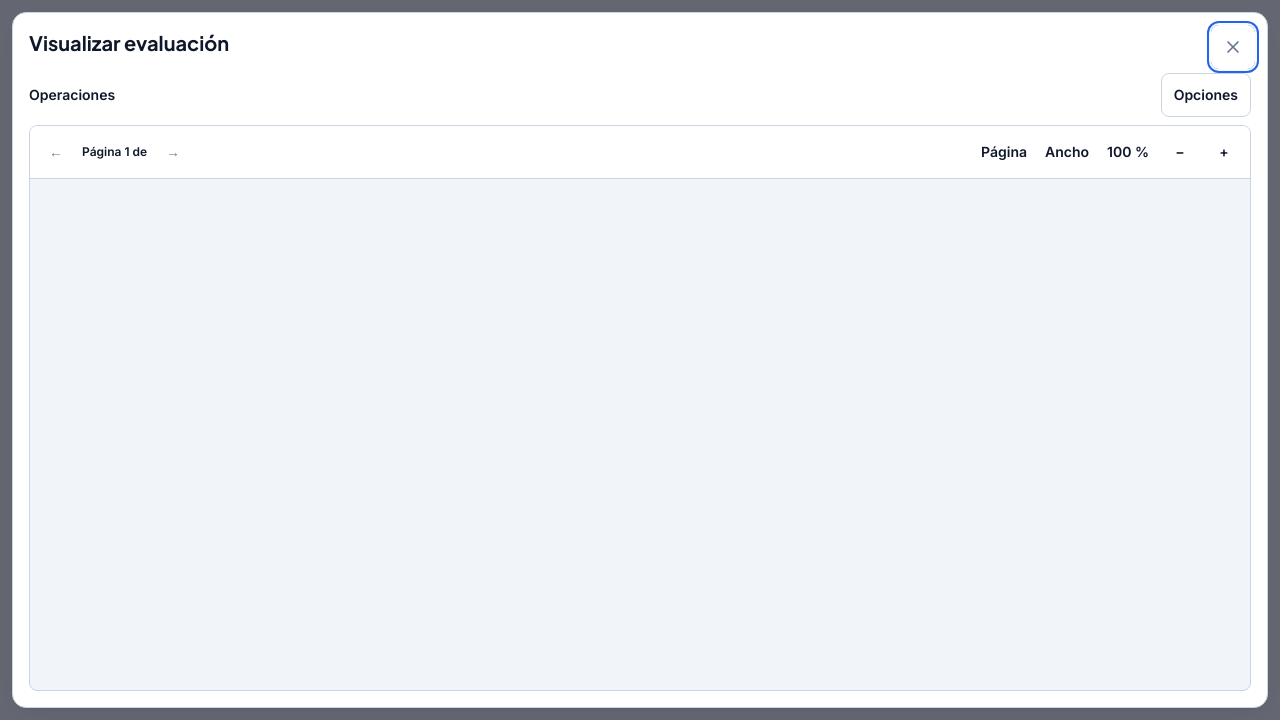
EvaluationPreviewModal › offers readable public support text before questions, without a private solution control
Click the button "Opciones". click: {"x": 1206, "y": 95}
box: [1161, 73, 1251, 117]
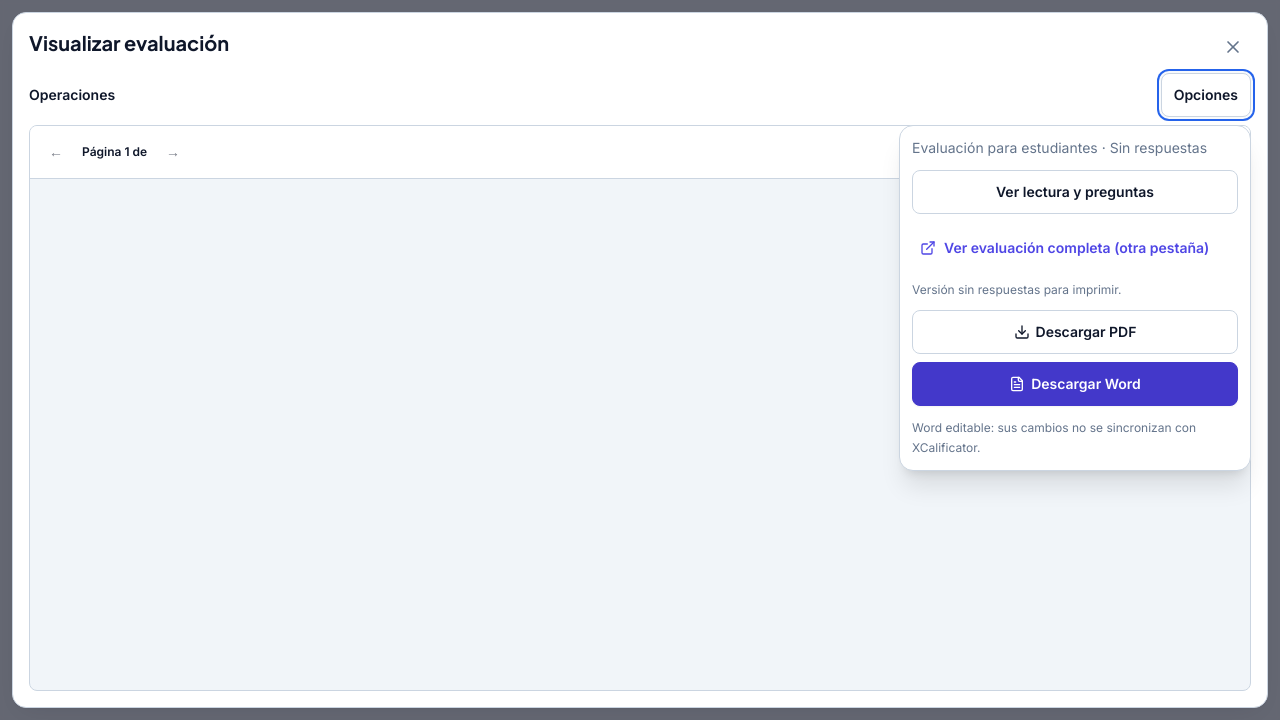
Click the button "Ver lectura y preguntas". click: {"x": 1075, "y": 192}
box: [912, 170, 1238, 214]
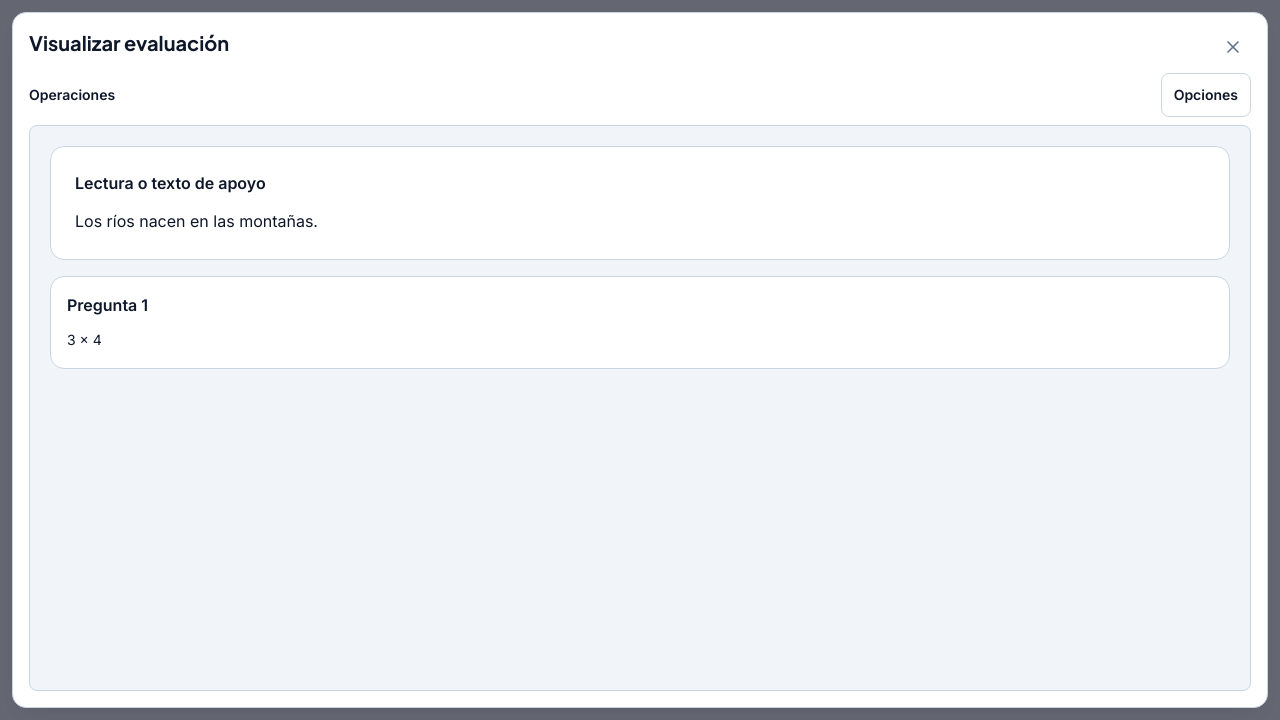
Expected: the text "Los ríos nacen en las montañas." is shown, [75, 211, 318, 231]
Expected: the heading "Pregunta 1" is shown, [67, 295, 148, 315]
